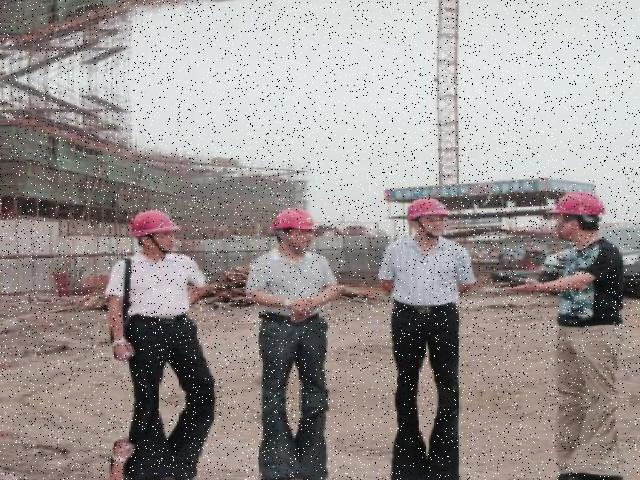Helmet: (550, 188, 610, 223), (129, 205, 185, 241), (270, 204, 322, 237), (405, 192, 457, 222)
